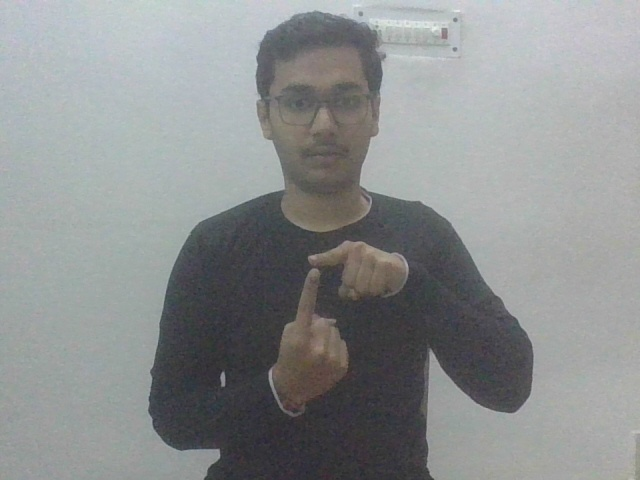I: (273, 239, 408, 411)
